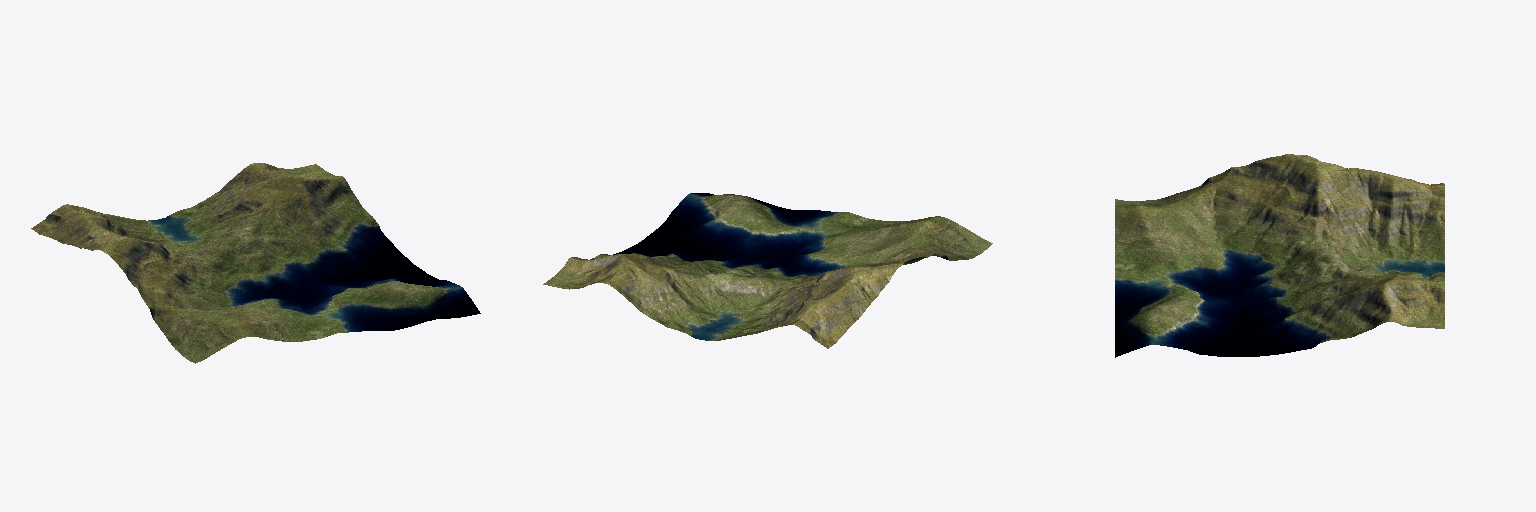
3 renders of one model, left to right at view 1: azimuth 30°, elevation 25°; view 2: azimuth 150°, elevation 25°; view 3: azimuth 270°, elevation 25°, orthographic.
Visible parts, largest first — view 1: terrain_o; view 2: terrain_o; view 3: terrain_o.
Boxes of the visible parts, x1,y1,x2,y2 form: terrain_o: [31, 163, 480, 363]; terrain_o: [543, 193, 992, 348]; terrain_o: [1115, 154, 1444, 357].
Bounding box in the file's own units: 5110 × 1102 × 5110.
Materials: 1 (1 with a texture image).